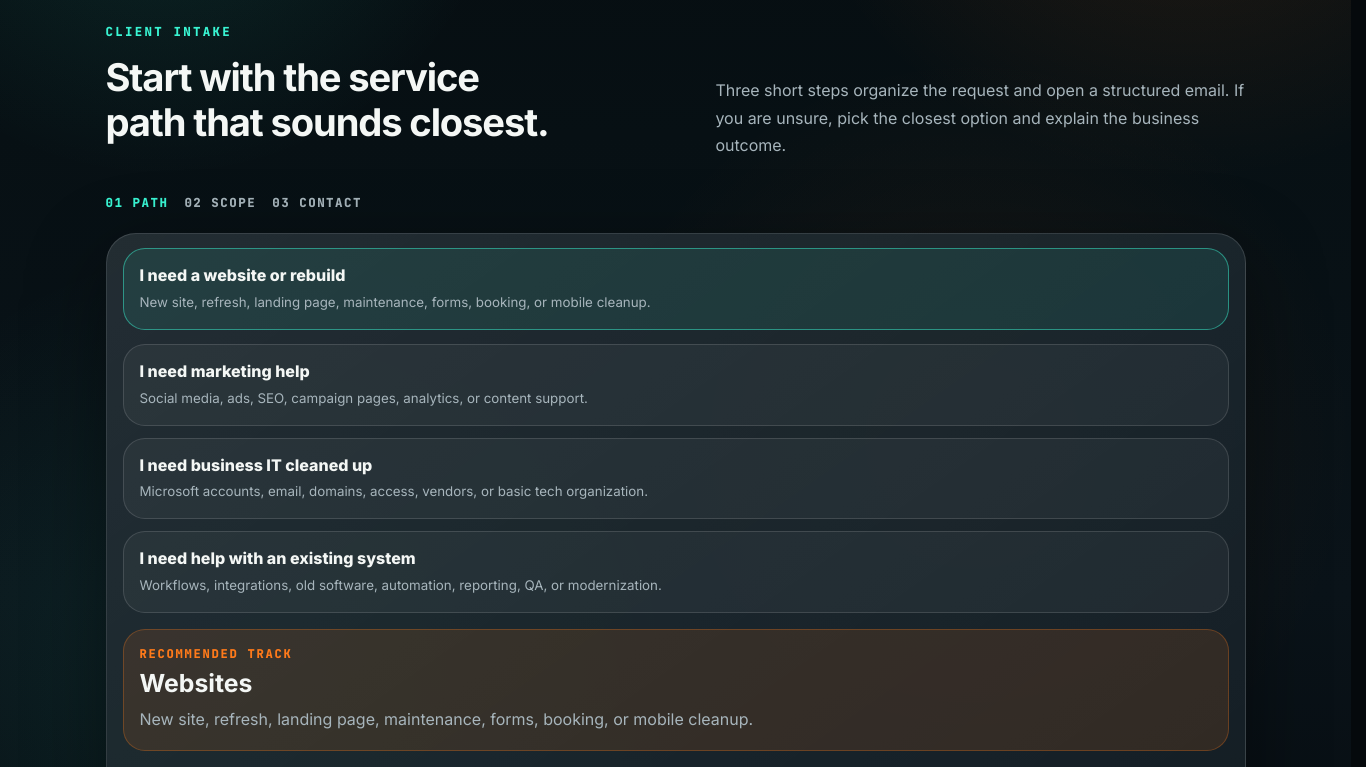
CloutSitesPage › updates the intake recommendation when a buyer path is selected
(page scrolled)
Step 1. Click the button "I need marketing help" → {"x": 225, "y": 371}, box [122, 344, 1228, 426]
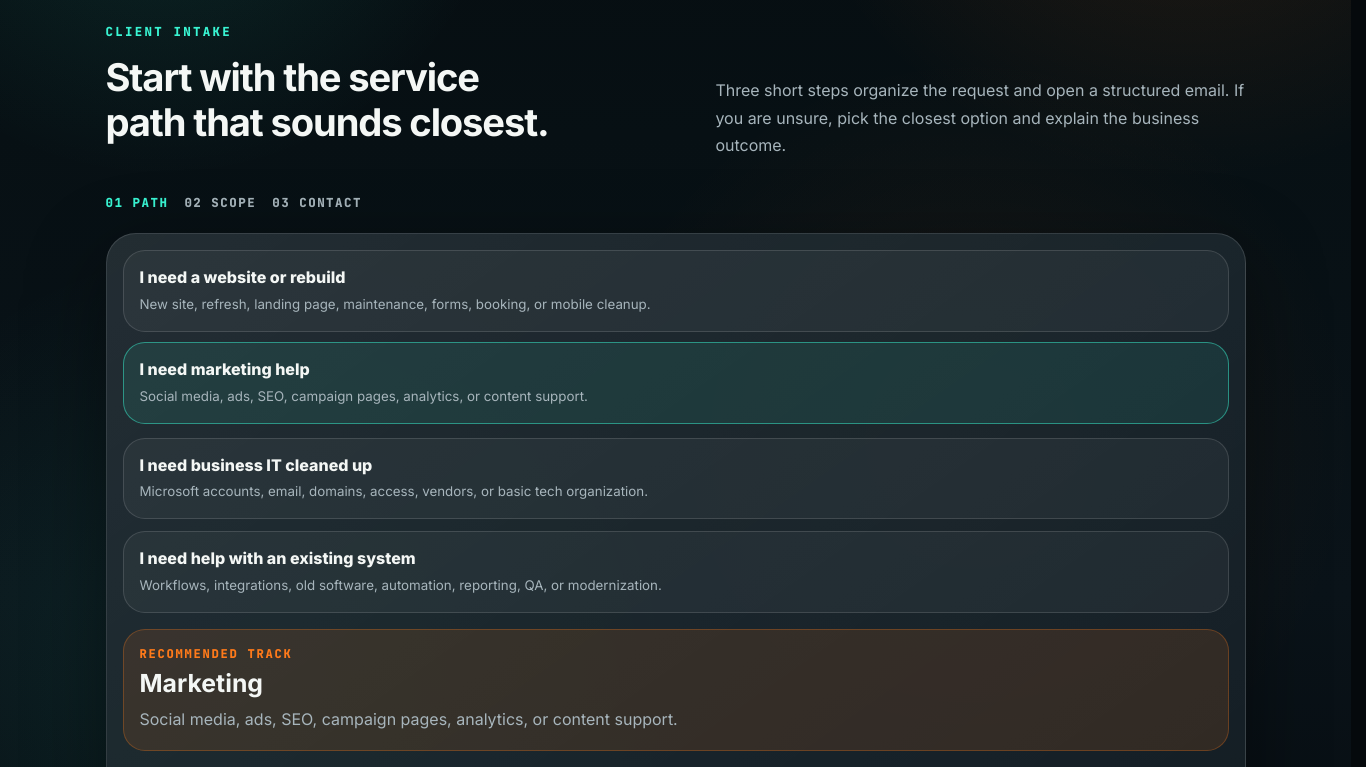
expect the text "Marketing" is shown: met, box [140, 668, 263, 698]
